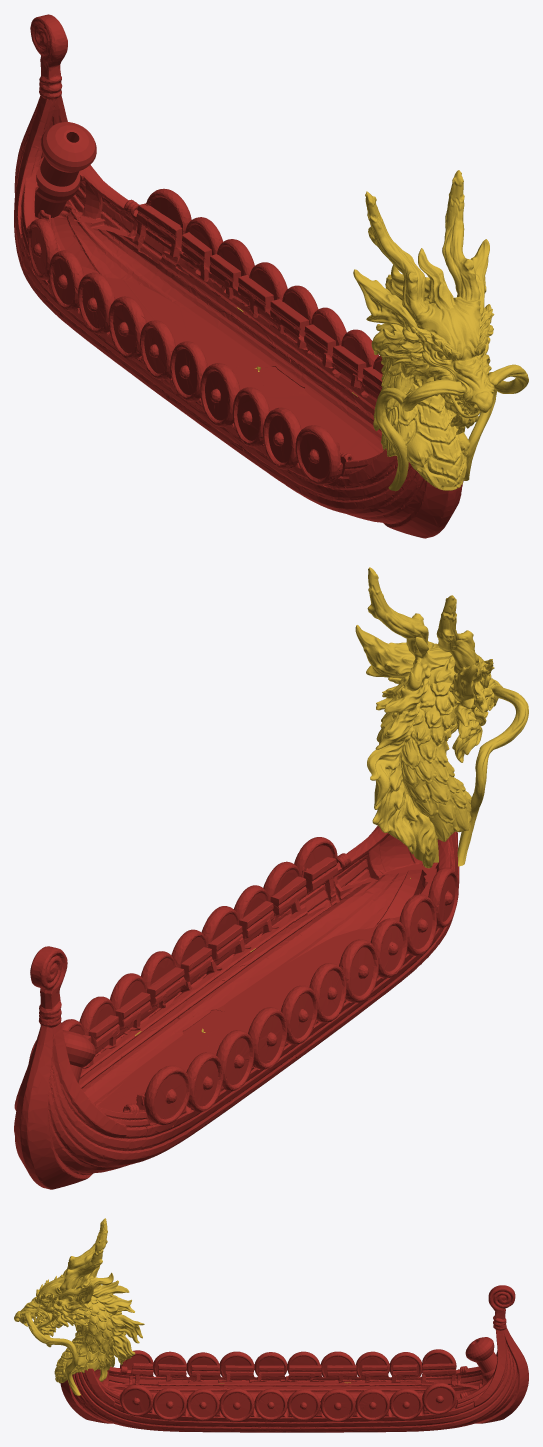
The model's file is DragonBoatOrnament.obj.
3 views of the same model, one above another, from view 1: azimuth 30°, elevation 25°; view 2: azimuth 150°, elevation 25°; view 3: azimuth 270°, elevation 25° (orthographic). The views are drawn at different scales.
Visible parts, largest first — view 1: hull_red, head_gold; view 2: hull_red, head_gold; view 3: hull_red, head_gold.
Boxes of the visible parts, x1,y1,x2,y2 form: hull_red: (14,14,463,538); head_gold: (353,170,528,491); hull_red: (14,826,459,1189); head_gold: (355,567,528,868); hull_red: (60,1285,528,1432); head_gold: (14,1218,144,1395).
Size of the model in its own units: 33.5 by 69.13 by 170.
